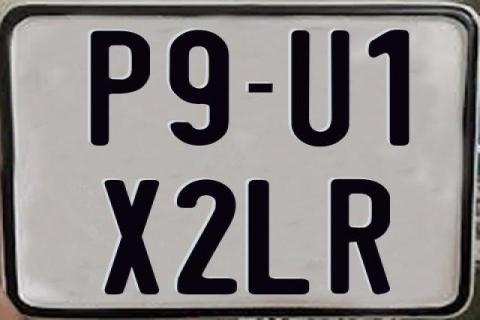0: (176, 180, 237, 300), (170, 28, 230, 146), (368, 27, 414, 145)
L: (248, 178, 311, 292)
P: (89, 28, 154, 144)
R: (330, 177, 391, 293)
U: (288, 30, 347, 148)
X: (104, 180, 159, 294)
